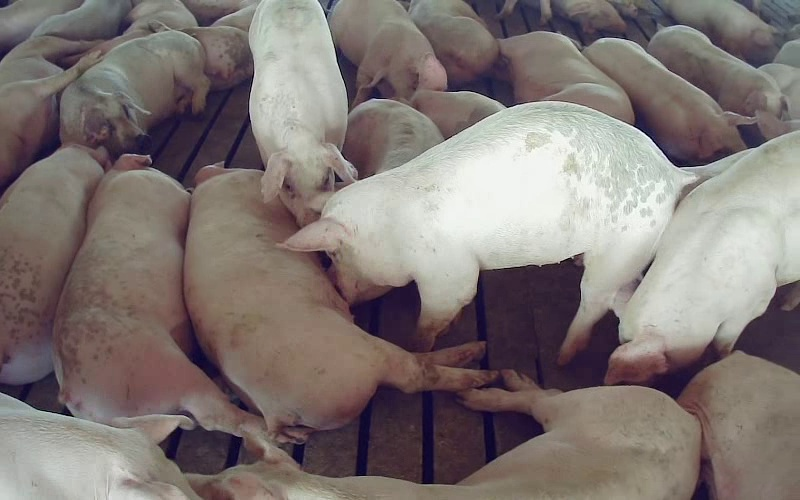pig: (285, 103, 698, 361), (184, 165, 495, 440), (187, 370, 701, 499), (605, 131, 799, 383), (0, 145, 109, 384), (249, 0, 355, 224), (583, 38, 755, 164), (60, 30, 209, 156), (677, 351, 799, 499), (0, 36, 99, 188), (498, 31, 634, 123), (647, 25, 784, 116), (329, 0, 446, 106), (409, 0, 498, 83)
